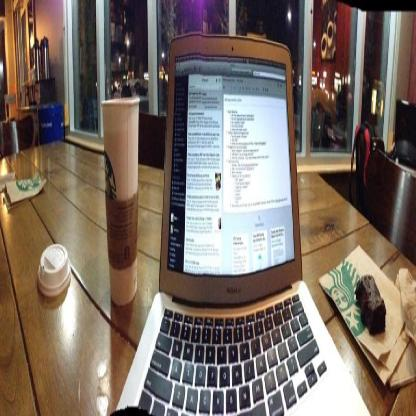board: (116, 22, 371, 415), (100, 100, 140, 312)
